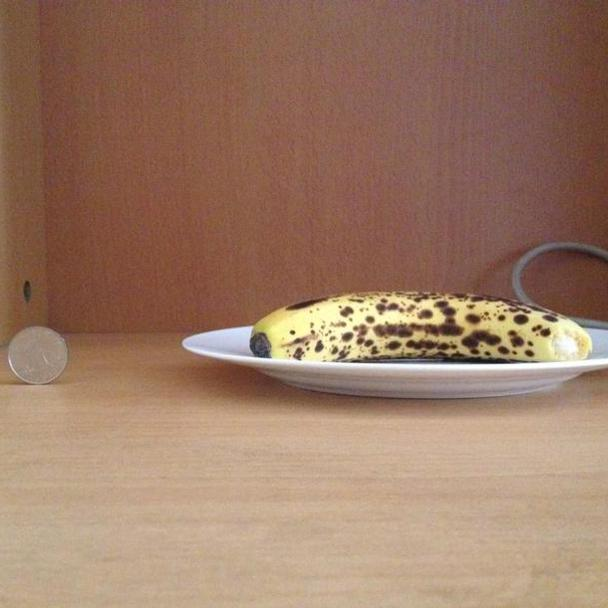banana: (242, 290, 593, 371)
